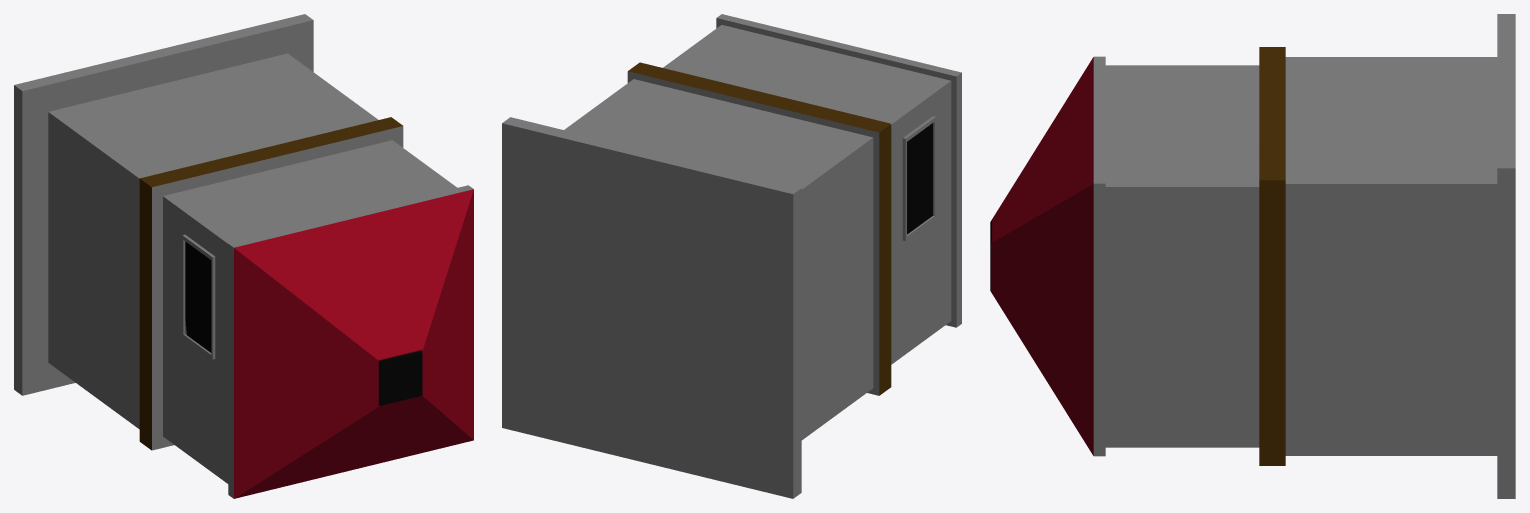
File: building.obj
3 renders of one model, left to right at view 1: azimuth 30°, elevation 25°; view 2: azimuth 150°, elevation 25°; view 3: azimuth 270°, elevation 25°, orthographic. The views are drawn at different scales.
Visible parts, largest first — view 1: Cube; view 2: Cube; view 3: Cube.
Part boxes in pixels (x1,y1,x2,y2): Cube: [14, 14, 473, 498]; Cube: [502, 14, 961, 498]; Cube: [990, 14, 1515, 498].
Bounding box in the file's own units: 2 × 2 × 2.88.
2 materials, 2 textured.
